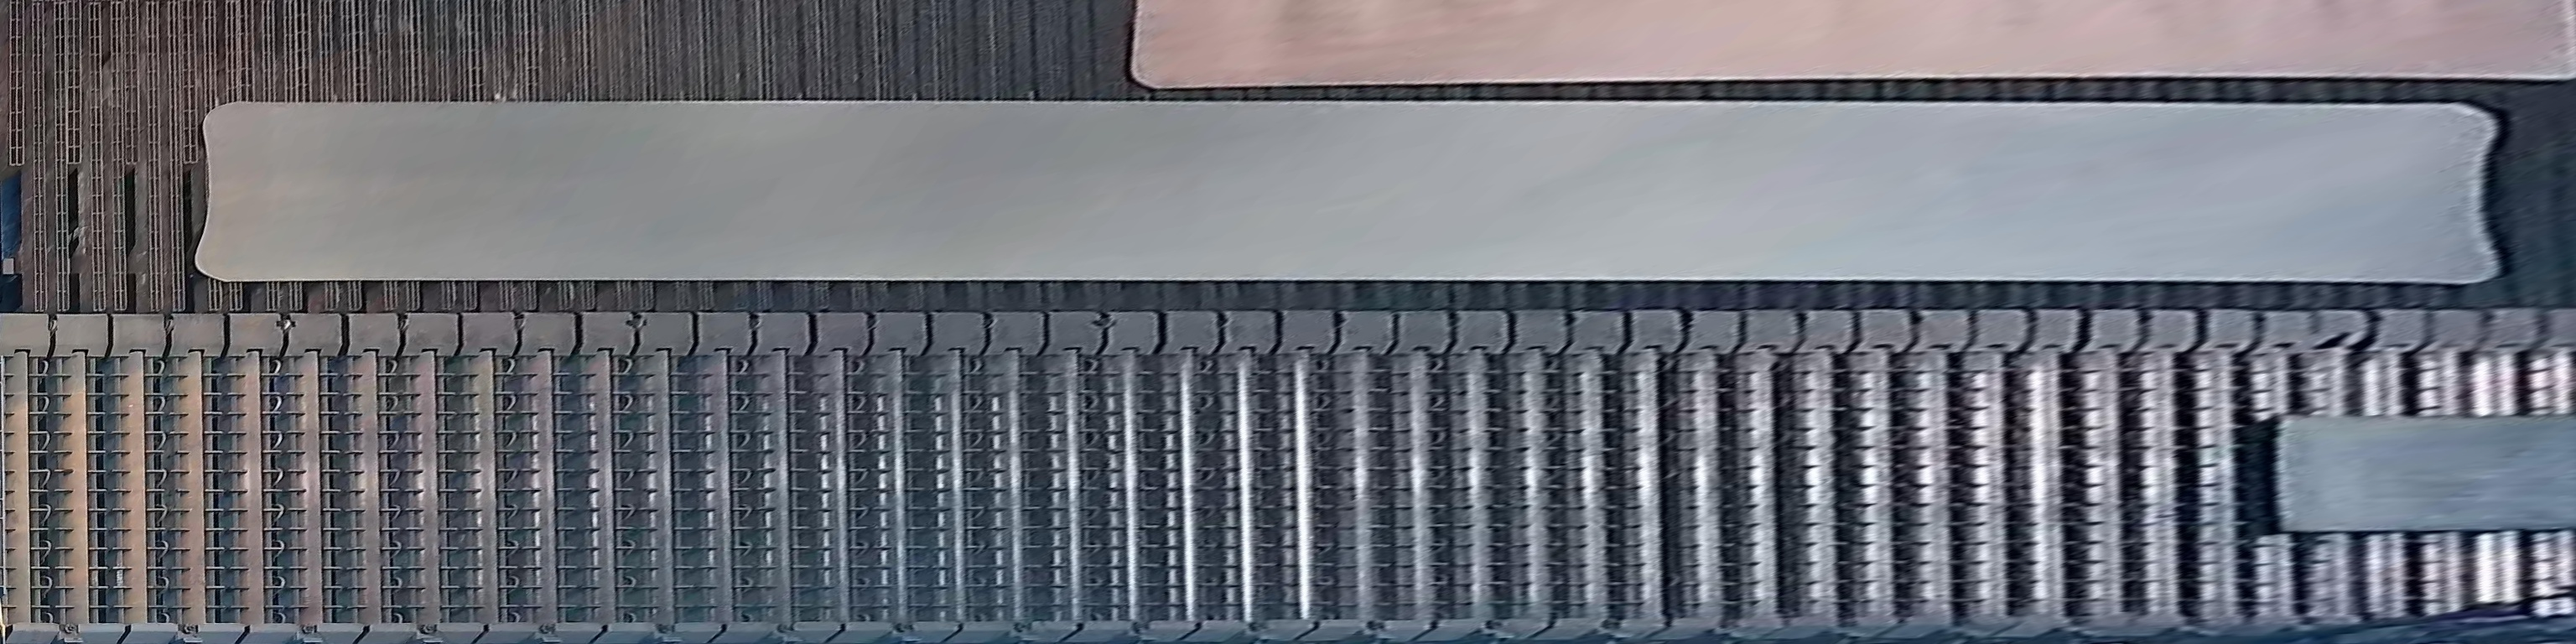cool_bed: (2, 2, 2556, 310)
down: (3, 618, 2576, 642)
up: (2, 310, 2556, 353)
